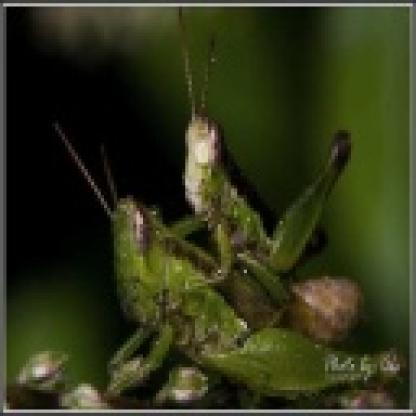grasshopper: (51, 192, 396, 411), (161, 8, 370, 311)
